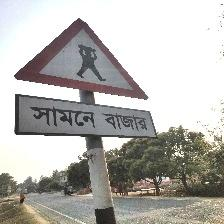Market-in-front: (13, 17, 155, 139)
